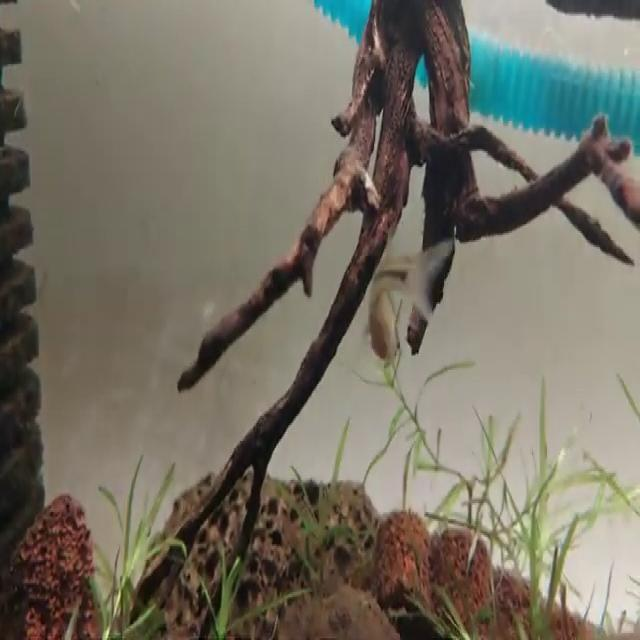Cakil Baligi: (357, 216, 446, 384)
